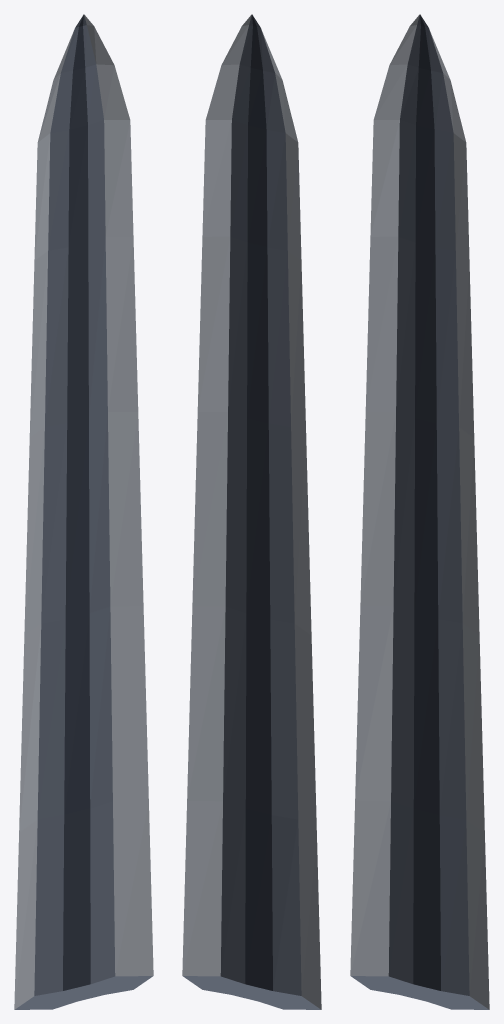
Rendered from iron-sword-blade.glb.
3 views of the same model, side by side, from view 1: azimuth 30°, elevation 25°; view 2: azimuth 150°, elevation 25°; view 3: azimuth 330°, elevation 25° (orthographic).
Parts seen in each view (by area): view 1: iron-sword-blade; view 2: iron-sword-blade; view 3: iron-sword-blade.
Part boxes in pixels (<box>): iron-sword-blade: <box>14,14,153,1009</box>; iron-sword-blade: <box>182,14,321,1009</box>; iron-sword-blade: <box>350,14,489,1009</box>.
Bounding box in the file's own units: 0.14 × 0.94 × 0.032.
